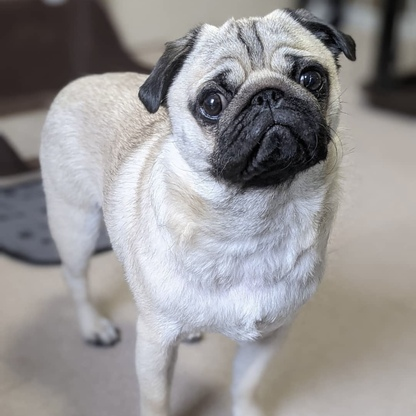Pug: (35, 4, 361, 416)
